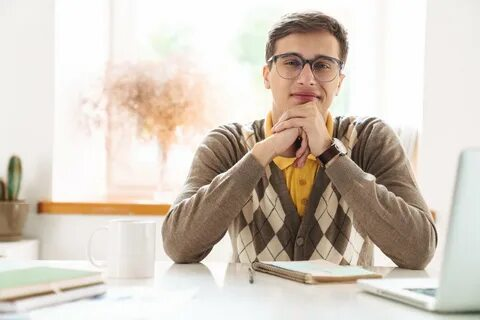awake: (161, 10, 439, 271)
